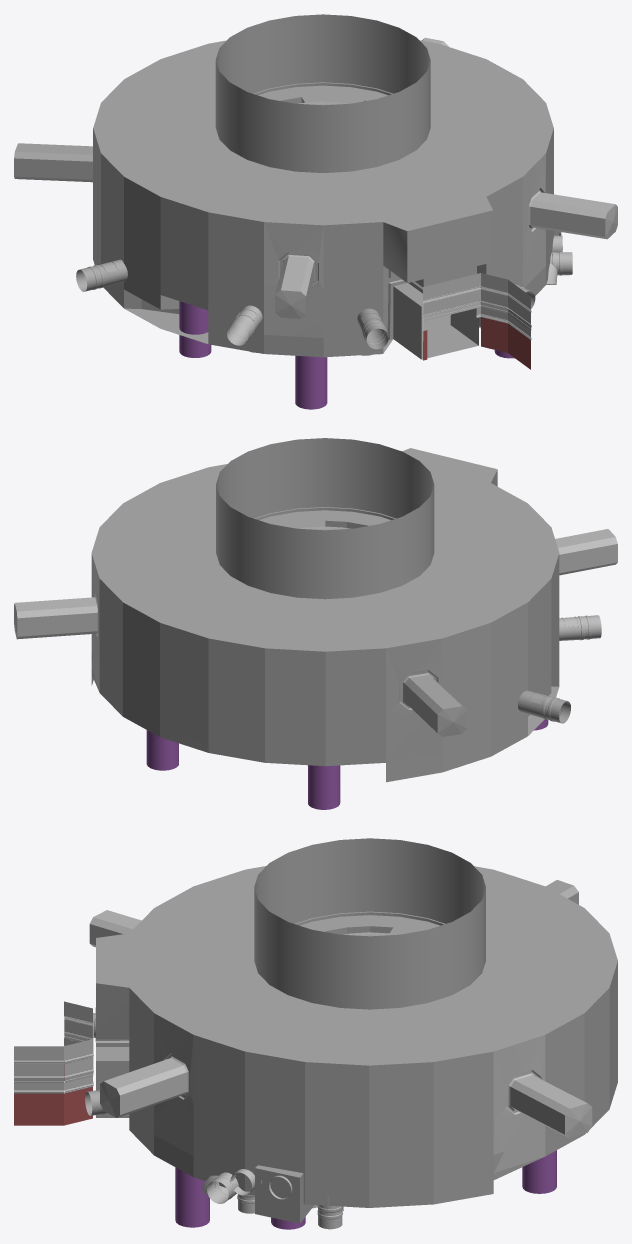
Rendered from BoosRoom4.fbx.
3 renders of one model, top to bottom at view 1: azimuth 30°, elevation 25°; view 2: azimuth 150°, elevation 25°; view 3: azimuth 270°, elevation 25°, orthographic. The views are drawn at different scales.
Parts seen in each view (by area): view 1: polySurface775, polySurface776, polySurface1569, polySurface1568, polySurface1418, polySurface1419, polySurface481, pCylinder3, pCylinder4, polySurface480, polySurface1555, polySurface474 (+4 smaller); view 2: polySurface775, polySurface776, polySurface1419, polySurface1567, polySurface1569, pCylinder8, polySurface1555, pCylinder7, polySurface1562; view 3: polySurface775, polySurface776, polySurface1567, polySurface1568, pCube94, polySurface474, pCylinder6, polySurface620, polySurface1418, polySurface480, pCylinder7, polySurface499 (+4 smaller).
Boxes of the visible parts, <box> form: polySurface775: <box>93,40,553,359</box>; polySurface776: <box>215,14,430,172</box>; polySurface1569: <box>264,222,323,337</box>; polySurface1568: <box>523,153,617,287</box>; polySurface1418: <box>383,266,478,359</box>; polySurface1419: <box>14,143,92,182</box>; polySurface481: <box>423,273,480,321</box>; pCylinder3: <box>295,355,327,409</box>; pCylinder4: <box>179,301,211,357</box>; polySurface480: <box>481,273,507,323</box>; polySurface1555: <box>76,259,127,291</box>; polySurface474: <box>507,280,531,339</box>; polySurface775: <box>91,448,559,782</box>; polySurface776: <box>216,438,434,599</box>; polySurface1419: <box>386,638,467,762</box>; polySurface1567: <box>14,554,99,692</box>; polySurface1569: <box>555,529,617,575</box>; pCylinder8: <box>308,765,340,809</box>; polySurface1555: <box>518,690,570,723</box>; pCylinder7: <box>146,730,178,770</box>; polySurface1562: <box>559,615,601,640</box>; polySurface775: <box>96,866,617,1207</box>; polySurface776: <box>254,838,485,1009</box>; polySurface1567: <box>493,1035,592,1172</box>; polySurface1568: <box>100,1013,193,1156</box>; pCube94: <box>255,1165,314,1223</box>; polySurface474: <box>14,1046,63,1093</box>; pCylinder6: <box>175,1167,209,1227</box>; polySurface620: <box>14,1093,63,1125</box>; polySurface1418: <box>95,1007,129,1117</box>; polySurface480: <box>64,1039,93,1093</box>; pCylinder7: <box>522,1150,556,1193</box>; polySurface499: <box>64,1001,92,1045</box>.
Bounding box in the file's own units: 2781 × 1503 × 2961.
